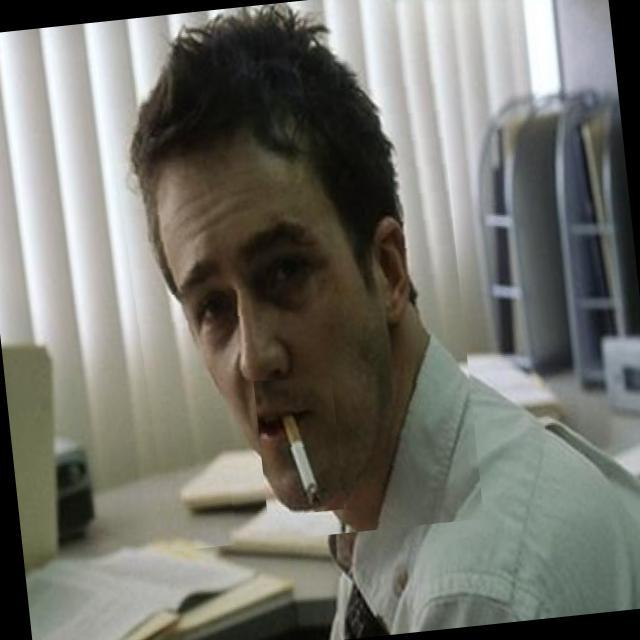cigarette: (254, 372, 346, 516)
